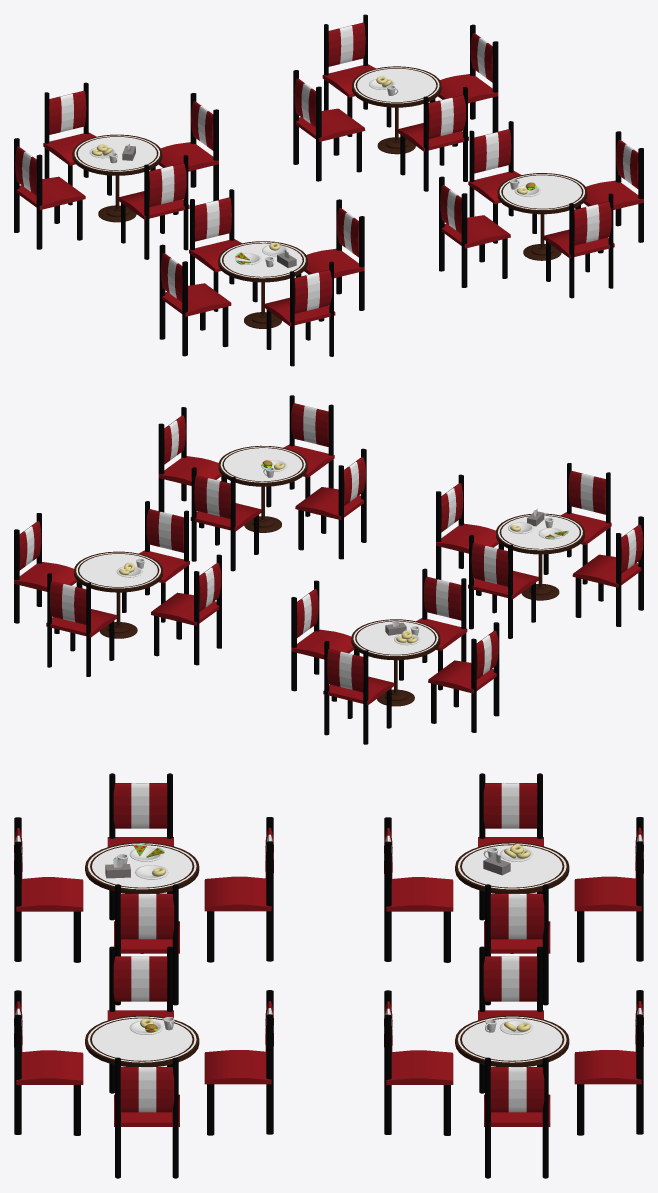
The model's file is tempat makan 1.fbx.
3 views of the same model, one above another, from view 1: azimuth 30°, elevation 25°; view 2: azimuth 150°, elevation 25°; view 3: azimuth 270°, elevation 25° (orthographic). The views are drawn at different scales.
Parts seen in each view (by area): view 1: Cylinder.015, Cylinder.020, Cylinder.010, Cylinder.005, Cylinder.003, Cylinder.011, Cylinder.006, Cylinder.016, Circle.003, Circle.002, Circle.001, Cylinder.008 (+8 smaller); view 2: Cylinder.008, Cylinder.013, Cylinder.018, Cylinder.002, Cylinder.006, Circle.002, Circle.003, Cylinder.003, Cylinder.011, Cylinder.016, Circle.001, Cylinder.015 (+8 smaller); view 3: Cylinder.019, Cylinder.014, Cylinder.009, Cylinder.004, Circle.003, Circle.002, Circle.001, Cylinder.003, Cylinder.016, Cylinder.011, Cylinder.006, Cylinder.002 (+8 smaller).
Boxes of the visible parts, bbox=[...] form: Cylinder.015: bbox=[543, 193, 614, 298]; Cylinder.020: bbox=[397, 87, 468, 191]; Cylinder.010: bbox=[118, 155, 189, 259]; Cylinder.005: bbox=[263, 261, 335, 366]; Cylinder.003: bbox=[159, 244, 231, 356]; Cylinder.011: bbox=[439, 176, 510, 287]; Cylinder.006: bbox=[14, 138, 85, 249]; Cylinder.016: bbox=[293, 70, 365, 181]; Circle.003: bbox=[352, 66, 441, 154]; Circle.002: bbox=[497, 173, 587, 260]; Circle.001: bbox=[72, 134, 162, 222]; Cylinder.008: bbox=[43, 82, 111, 205]; Cylinder.008: bbox=[323, 641, 394, 744]; Cylinder.013: bbox=[190, 467, 261, 571]; Cylinder.018: bbox=[46, 573, 117, 676]; Cylinder.002: bbox=[468, 535, 538, 638]; Cylinder.006: bbox=[428, 622, 499, 732]; Circle.002: bbox=[218, 445, 307, 532]; Circle.003: bbox=[74, 551, 162, 638]; Cylinder.003: bbox=[572, 516, 643, 626]; Cylinder.011: bbox=[295, 448, 366, 559]; Cylinder.016: bbox=[151, 554, 221, 665]; Circle.001: bbox=[351, 619, 440, 706]; Cylinder.015: bbox=[266, 395, 334, 516]; Cylinder.019: bbox=[484, 1057, 550, 1178]; Cylinder.014: bbox=[114, 1057, 179, 1178]; Cylinder.009: bbox=[484, 884, 550, 1005]; Cylinder.004: bbox=[114, 884, 179, 1005]; Circle.003: bbox=[455, 1015, 569, 1066]; Circle.002: bbox=[85, 1015, 199, 1066]; Circle.001: bbox=[455, 842, 569, 953]; Cylinder.003: bbox=[107, 773, 173, 920]; Cylinder.016: bbox=[478, 946, 543, 1093]; Cylinder.011: bbox=[107, 946, 173, 1093]; Cylinder.006: bbox=[478, 773, 543, 920]; Cylinder.002: bbox=[204, 817, 273, 962].
Bounding box in the file's own units: 2890 × 557 × 2676.
